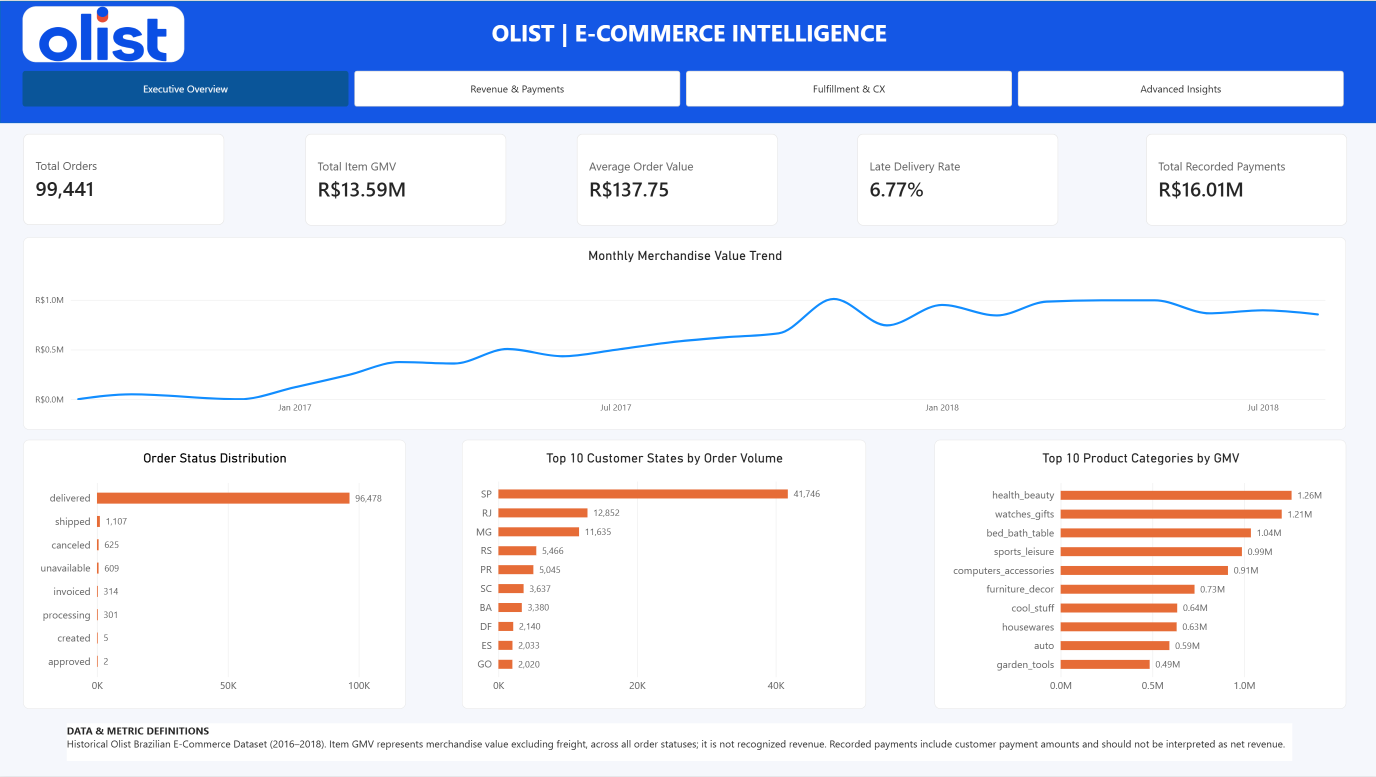

What the dashboard file says about the page in this screenshot:
{"tool":"powerbi","page":{"name":"Executive Overview","canvas":[1920,1080],"ordinal":0},"visuals":[{"type":"cardVisual","fields":{"Data":["Fact_Order_Overview.Total Orders"]},"box":[32.3,185.1,280,127.4],"z":0},{"type":"cardVisual","fields":{"Data":["Fact_Order_Overview.Total Item GMV"]},"box":[425,185.1,280,128.5],"z":1000},{"type":"cardVisual","fields":{"Data":["Fact_Order_Overview.Average Order Value"]},"box":[802.7,185.1,280,128.5],"z":2000},{"type":"cardVisual","fields":{"Data":["Fact_Order_Overview.Late Delivery Rate"]},"box":[1193.3,185.1,280,128.5],"z":3000},{"type":"cardVisual","fields":{"Data":["Fact_Order_Overview.Total Recorded Payments"]},"box":[1595.8,185.1,280,128.5],"z":4000},{"type":"lineChart","title":" Monthly Merchandise Value Trend","fields":{"Category":["Fact_Order_Overview.Purchase Month"],"Y":["Fact_Order_Overview.Total Item GMV"]},"box":[32.3,329.3,1842.2,267.9],"z":5000},{"type":"clusteredBarChart","title":"Order Status Distribution","fields":{"Category":["Fact_Order_Overview.order_status"],"Y":["Fact_Order_Overview.Total Orders"]},"box":[32.3,611.2,532.6,374.5],"z":6000},{"type":"clusteredBarChart","title":"Top 10 Customer States by Order Volume","fields":{"Category":["Fact_Order_Overview.customer_state"],"Y":["Fact_Order_Overview.Total Orders"]},"box":[643.5,611.2,562.8,374.5],"z":7000},{"type":"clusteredBarChart","title":"Top 10 Product Categories by GMV","fields":{"Category":["Category_Order_Items.product_category"],"Y":["Sum(Category_Order_Items.item_price_brl)"]},"box":[1300.9,611.2,573.5,374.5],"z":8000},{"type":"shape","box":[0,0,1919.6,170.2],"z":9000},{"type":"pageNavigator","box":[31.8,96.6,1842.8,50.5],"z":10000},{"type":"textbox","box":[225.1,9.9,272.4,60.4],"z":11000},{"type":"textbox","box":[0,22,1919.6,56],"z":12000},{"type":"image","box":[31.8,7.7,225.1,78],"z":13000},{"type":"textbox","box":[92.5,1006.1,1706.6,52.7],"z":13001}]}

Visuals, with their boxes in screenshot pixels (x1, y1, x2, y2), scaled from the page's 1920x1080 canvas onto the 1376x777 screenshot:
cardVisual - Fact_Order_Overview.Total Orders: (23,133,224,225)
cardVisual - Fact_Order_Overview.Total Item GMV: (305,133,505,226)
cardVisual - Fact_Order_Overview.Average Order Value: (575,133,776,226)
cardVisual - Fact_Order_Overview.Late Delivery Rate: (855,133,1056,226)
cardVisual - Fact_Order_Overview.Total Recorded Payments: (1144,133,1344,226)
" Monthly Merchandise Value Trend" lineChart: (23,237,1343,430)
"Order Status Distribution" clusteredBarChart: (23,440,405,709)
"Top 10 Customer States by Order Volume" clusteredBarChart: (461,440,865,709)
"Top 10 Product Categories by GMV" clusteredBarChart: (932,440,1343,709)
shape: (0,0,1375,122)
pageNavigator: (23,69,1343,106)
textbox: (161,7,357,51)
textbox: (0,16,1375,56)
image: (23,6,184,62)
textbox: (66,724,1289,762)
